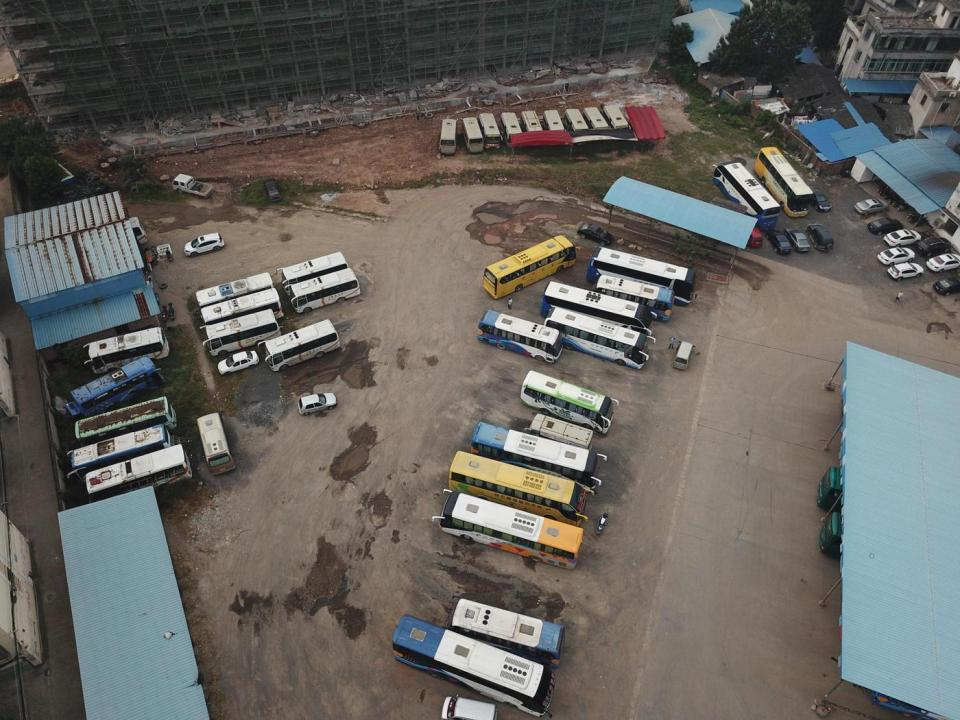bus: (392, 614, 556, 718), (432, 487, 583, 568), (449, 451, 595, 528), (470, 422, 607, 489), (449, 595, 567, 666), (816, 466, 948, 521), (540, 306, 655, 369), (540, 280, 657, 340), (86, 443, 193, 506), (586, 246, 696, 306), (819, 512, 945, 564), (520, 369, 619, 434), (70, 424, 176, 483), (67, 356, 165, 419), (483, 235, 580, 298), (76, 397, 176, 448), (711, 160, 781, 231), (476, 310, 564, 364), (868, 668, 960, 718), (258, 319, 340, 372), (754, 146, 813, 218), (85, 326, 170, 374), (201, 287, 284, 335), (199, 308, 281, 356), (592, 275, 675, 322), (197, 271, 275, 319), (284, 267, 362, 314), (46, 216, 147, 250), (276, 251, 349, 297), (524, 412, 594, 454), (196, 412, 237, 477), (582, 106, 610, 144), (602, 105, 632, 140), (477, 112, 503, 150), (499, 112, 523, 149), (543, 110, 567, 146), (564, 109, 589, 143), (520, 110, 544, 145), (461, 116, 483, 154), (439, 119, 458, 155)
car: (218, 350, 258, 377), (298, 391, 338, 416), (184, 232, 224, 256), (576, 223, 614, 245), (806, 224, 834, 252), (766, 228, 793, 256), (884, 229, 921, 248), (925, 253, 960, 273), (877, 248, 915, 266), (867, 217, 904, 235), (887, 262, 924, 280), (784, 228, 809, 254), (915, 238, 951, 256), (806, 188, 832, 212), (852, 199, 888, 215), (932, 277, 960, 296), (744, 226, 764, 249), (264, 178, 282, 202)
truck: (172, 174, 214, 200)
van: (442, 695, 497, 720), (672, 340, 695, 370)
